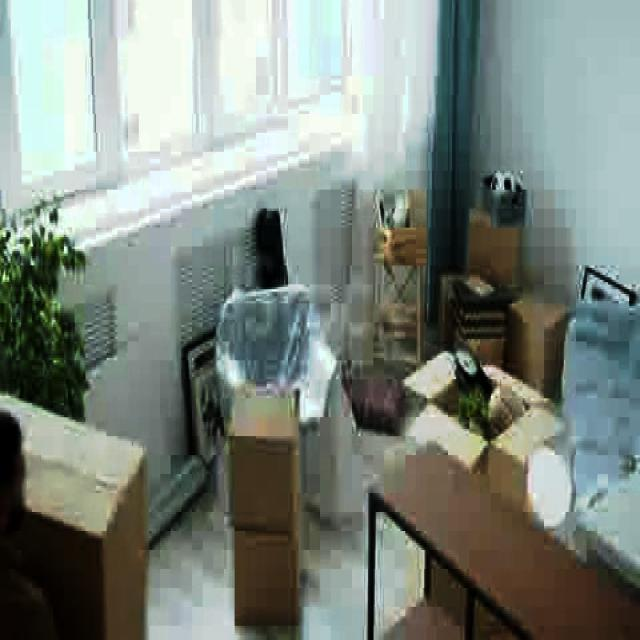Box: (228, 397, 300, 515), (508, 290, 571, 408), (236, 532, 302, 622)
